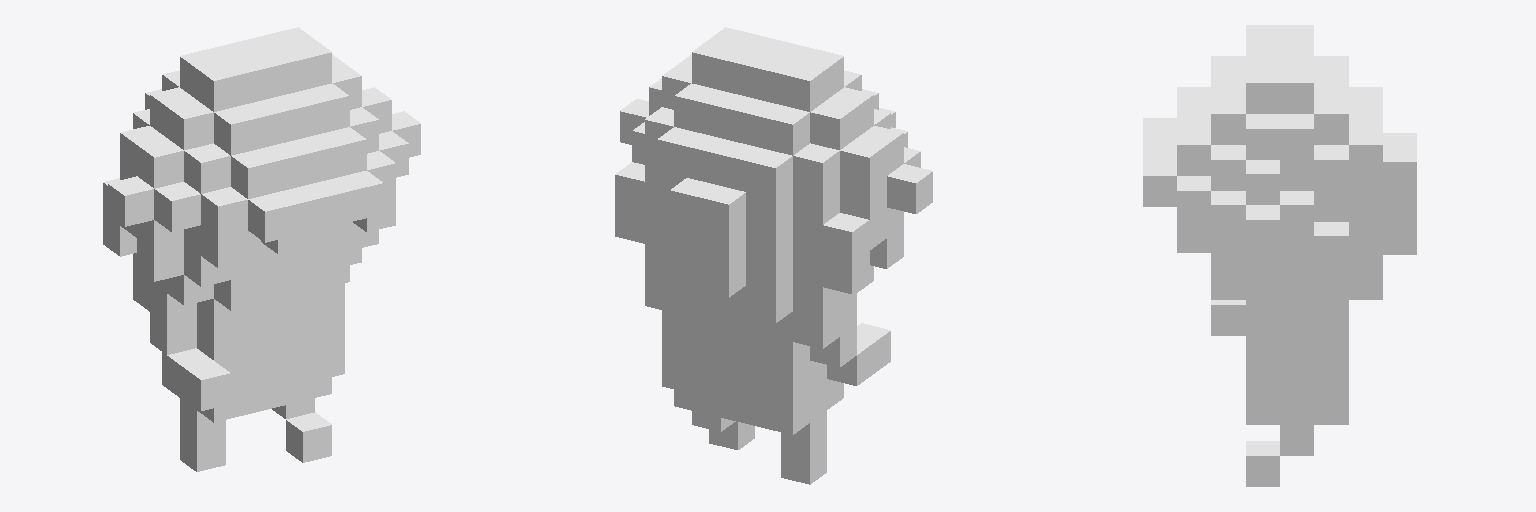
File: JumpBack1.obj
3 views of the same model, side by side, from view 1: azimuth 30°, elevation 25°; view 2: azimuth 150°, elevation 25°; view 3: azimuth 270°, elevation 25° (orthographic).
Visible parts, largest first — view 1: JumpBack1; view 2: JumpBack1; view 3: JumpBack1.
Boxes of the visible parts, x1,y1,x2,y2 form: JumpBack1: [103, 27, 420, 471]; JumpBack1: [615, 27, 932, 484]; JumpBack1: [1143, 25, 1416, 486].
Bounding box in the file's own units: 10 × 13 × 8.